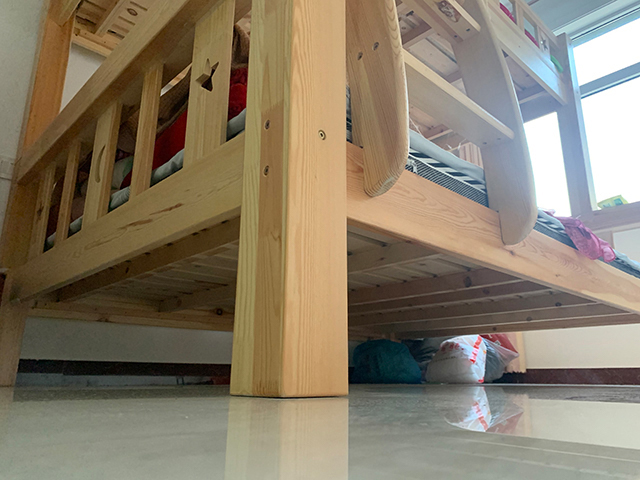bed: (1, 1, 639, 397)
